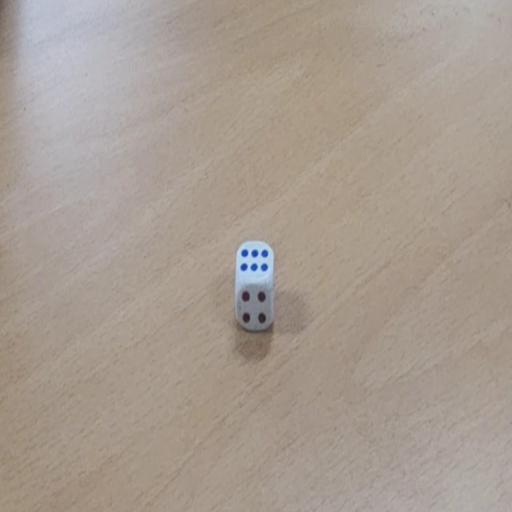dice_6: (235, 240, 276, 333)
